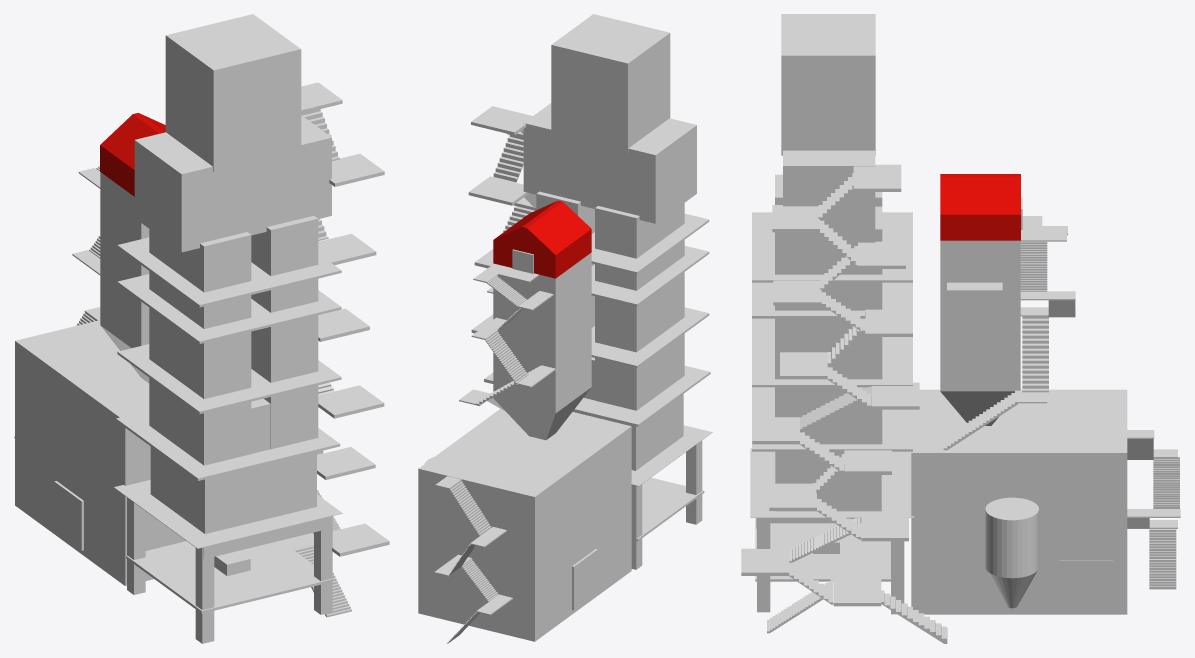
File: zvd.glb
The picture shows the model from 3 angles, left to right: view 1: azimuth 30°, elevation 25°; view 2: azimuth 150°, elevation 25°; view 3: azimuth 270°, elevation 25°; orthographic projection. The views are drawn at different scales.
Parts seen in each view (by area): view 1: Cube.048, Cube.020, Cube.011, Cube.019, Cube.016, Cube.006, Cube.008, Cube.049, Cube.018, Cube.014, Cube.017, Cube.013 (+16 smaller); view 2: Cube.048, Cube.020, Cube.019, Cube.011, Cube.049, Куб.006, Cube.006, Cube.013, Cube.017, Cube.014, Cube.018, Cube.008 (+13 smaller); view 3: Cube.048, Cube.049, Cube.020, Cube.016, Cube.019, Куб.006, Цилиндр, Cube.008, Cube.004, Cube.014, Cube.018, Cube.006 (+32 smaller).
Part boxes in pixels (box(x1,y1,x2,y2)): Cube.048: box(15, 320, 185, 585); Cube.020: box(165, 14, 301, 171); Cube.011: box(149, 229, 251, 465); Cube.019: box(134, 115, 331, 252); Cube.016: box(251, 215, 318, 449); Cube.006: box(150, 398, 316, 533); Cube.008: box(126, 540, 333, 613); Cube.049: box(100, 172, 149, 383); Cube.018: box(117, 237, 341, 307); Cube.014: box(117, 344, 341, 414); Cube.017: box(117, 274, 341, 343); Cube.013: box(116, 410, 340, 480); Cube.048: box(418, 409, 631, 641); Cube.020: box(551, 14, 670, 152); Cube.019: box(523, 103, 696, 223); Cube.011: box(595, 203, 684, 410); Cube.049: box(493, 252, 591, 440); Куб.006: box(493, 200, 591, 278); Cube.006: box(572, 357, 683, 470); Cube.013: box(573, 365, 710, 426); Cube.017: box(591, 246, 709, 306); Cube.014: box(591, 307, 709, 367); Cube.018: box(591, 213, 709, 274); Cube.008: box(636, 477, 704, 541); Cube.048: box(911, 389, 1127, 614); Cube.049: box(940, 240, 1020, 425); Cube.020: box(781, 14, 875, 155); Cube.016: box(775, 206, 882, 444); Cube.019: box(783, 150, 875, 242); Куб.006: box(940, 174, 1020, 240); Цилиндр: box(985, 497, 1038, 608); Cube.008: box(755, 518, 890, 581); Cube.004: box(750, 448, 914, 517); Cube.014: box(752, 318, 912, 387); Cube.018: box(752, 212, 912, 282); Cube.006: box(775, 451, 881, 511).
Bounding box in the file's own units: 16.74 × 45.78 × 32.73.
